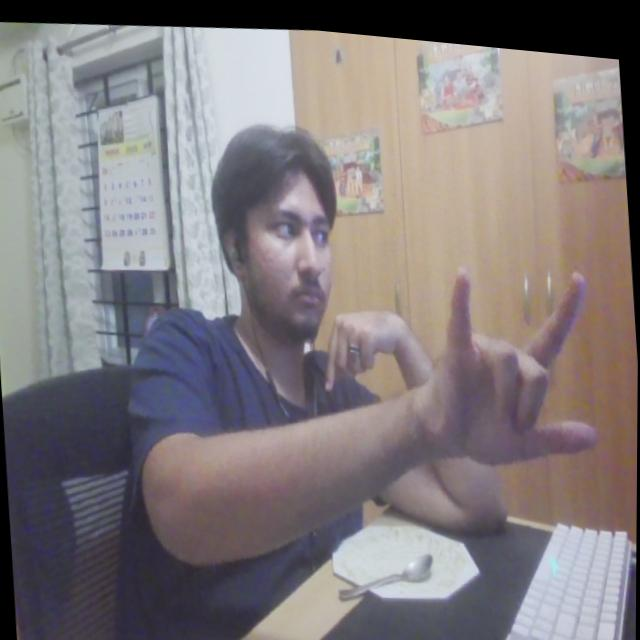iloveyou: (424, 239, 604, 473)
